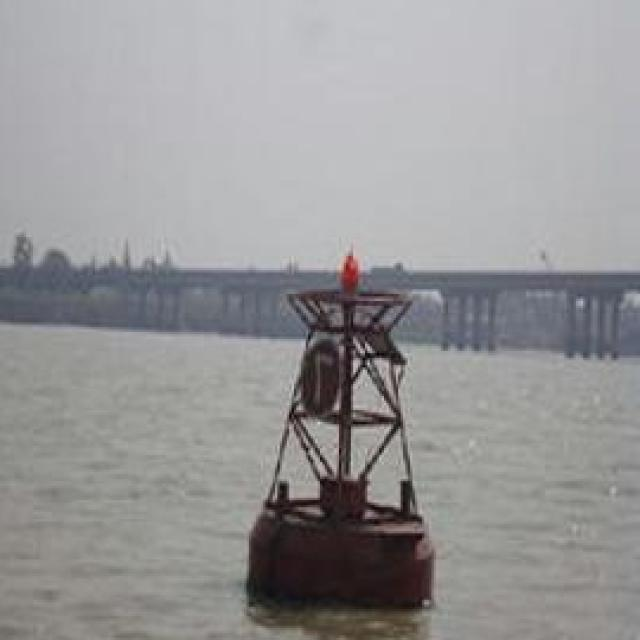buoy: (221, 250, 457, 611)
